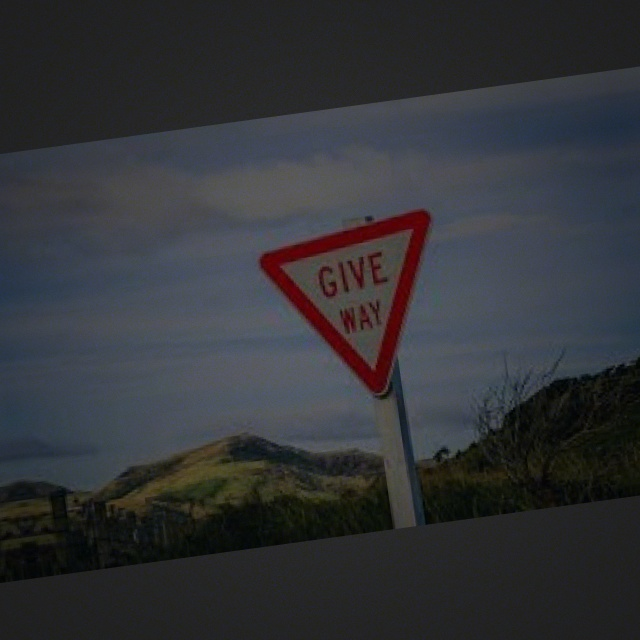Give_Way: (257, 212, 457, 404)
